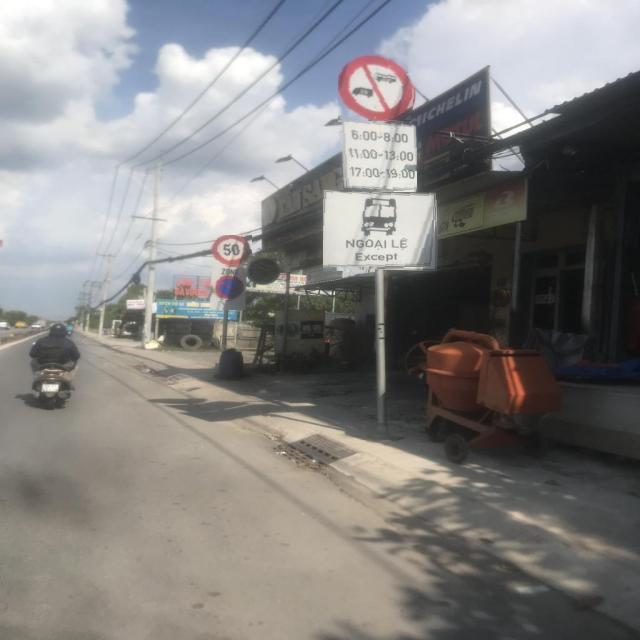107-cam-oto-khach-va-oto-tai: (338, 54, 417, 122)
127-toc-do-toi-da-50: (211, 233, 252, 266)
131a-cam-do-xe: (216, 274, 244, 302)
